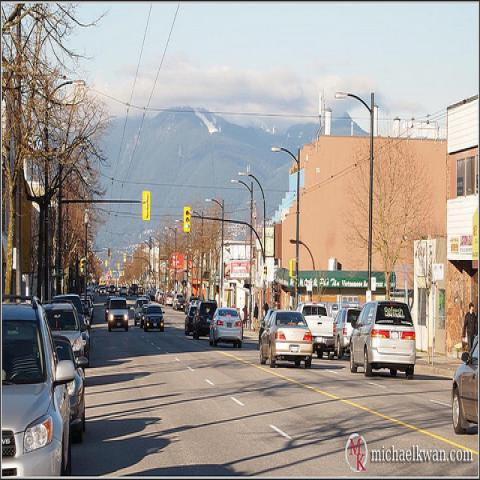car: (51, 280, 334, 364), (0, 296, 77, 479), (350, 302, 416, 378), (52, 334, 90, 447), (260, 308, 313, 367), (451, 334, 479, 436), (43, 302, 87, 360), (208, 308, 244, 348), (334, 304, 361, 357), (192, 301, 218, 339), (108, 298, 131, 332), (144, 304, 165, 332), (134, 297, 148, 326), (166, 295, 173, 307)
truck: (296, 300, 336, 360)
